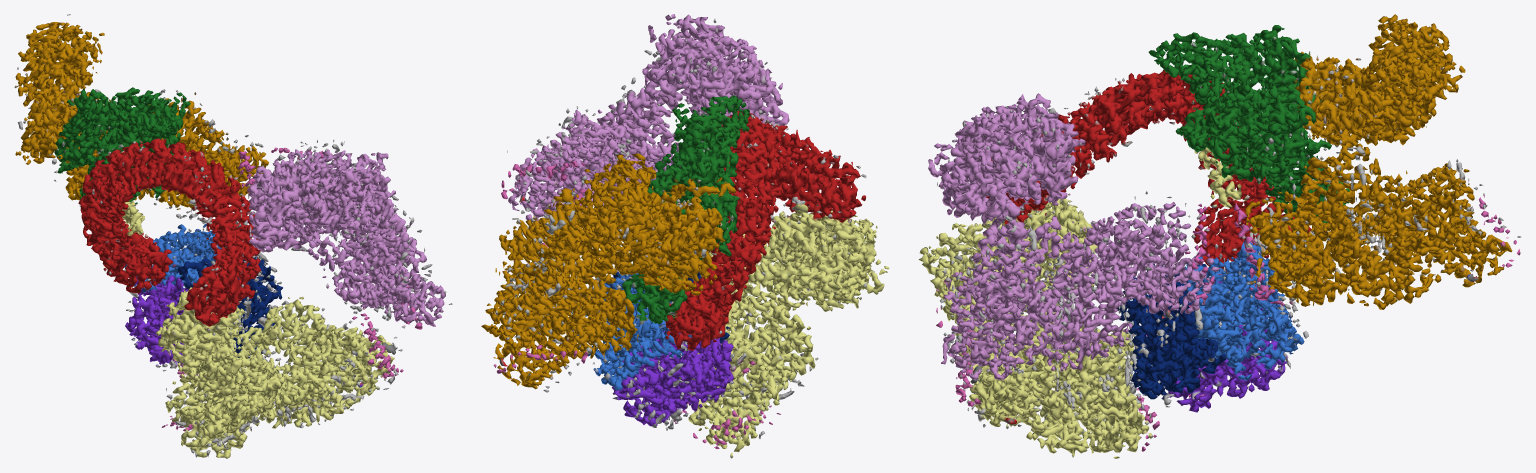
Rendered from ank1_colored.glb.
3 renders of one model, left to right at view 1: azimuth 30°, elevation 25°; view 2: azimuth 150°, elevation 25°; view 3: azimuth 270°, elevation 25°, orthographic. The views are drawn at different scales.
Parts seen in each view (by area): view 1: surface; view 2: surface; view 3: surface.
Boxes of the visible parts, x1,y1,x2,y2 form: surface: [14, 14, 452, 458]; surface: [481, 14, 889, 458]; surface: [918, 14, 1520, 458].
Bounding box in the file's own units: 159 × 196 × 258.
